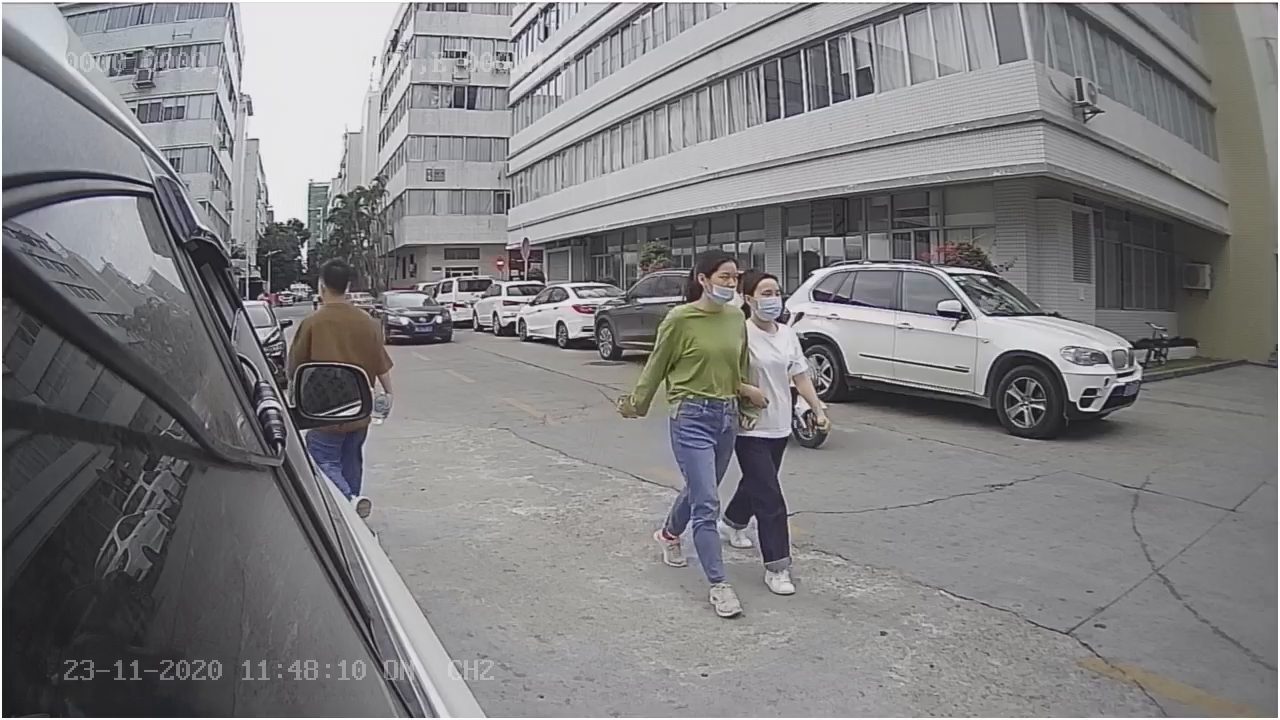person: (617, 245, 756, 622)
